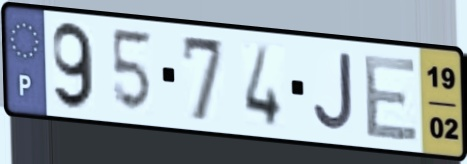4: (241, 41, 288, 131)
5: (108, 24, 156, 117)
7: (179, 31, 228, 124)
9: (49, 20, 97, 113)
E: (362, 52, 422, 144)
J: (310, 51, 356, 135)
